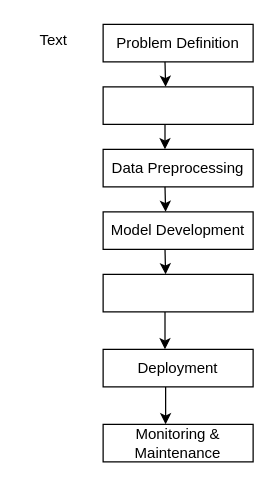
This 275x484 diagram has some shape labels left out. The centre of each missing label's shape, as x and y in pixels:
Data Collection: the point at 177,105
Model Evaluation: the point at 177,292
